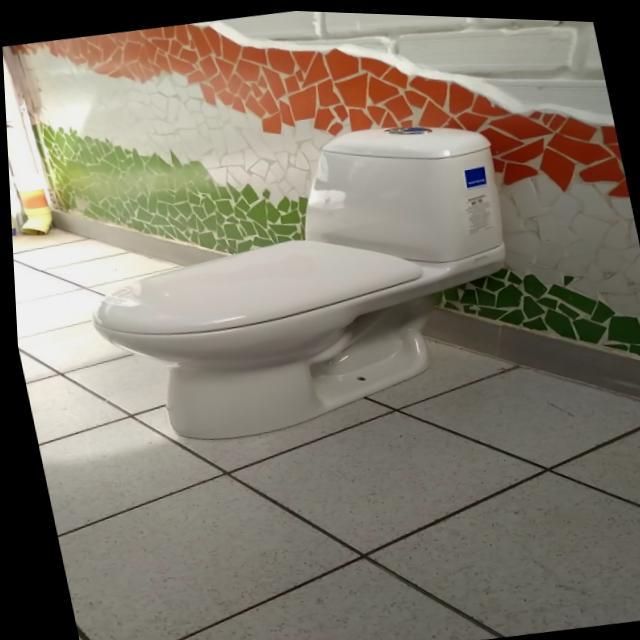toilet: (54, 97, 543, 464)
